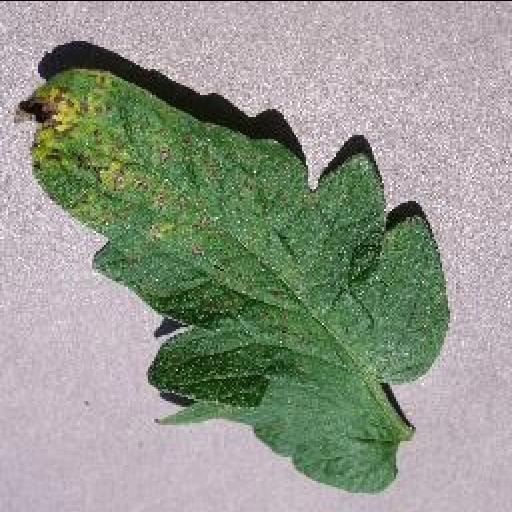disease_tomato: (15, 69, 453, 494)
